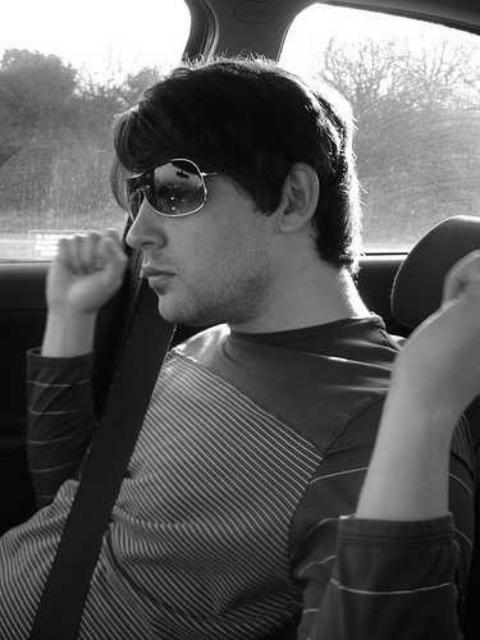Seatbelt: (29, 270, 176, 640)
